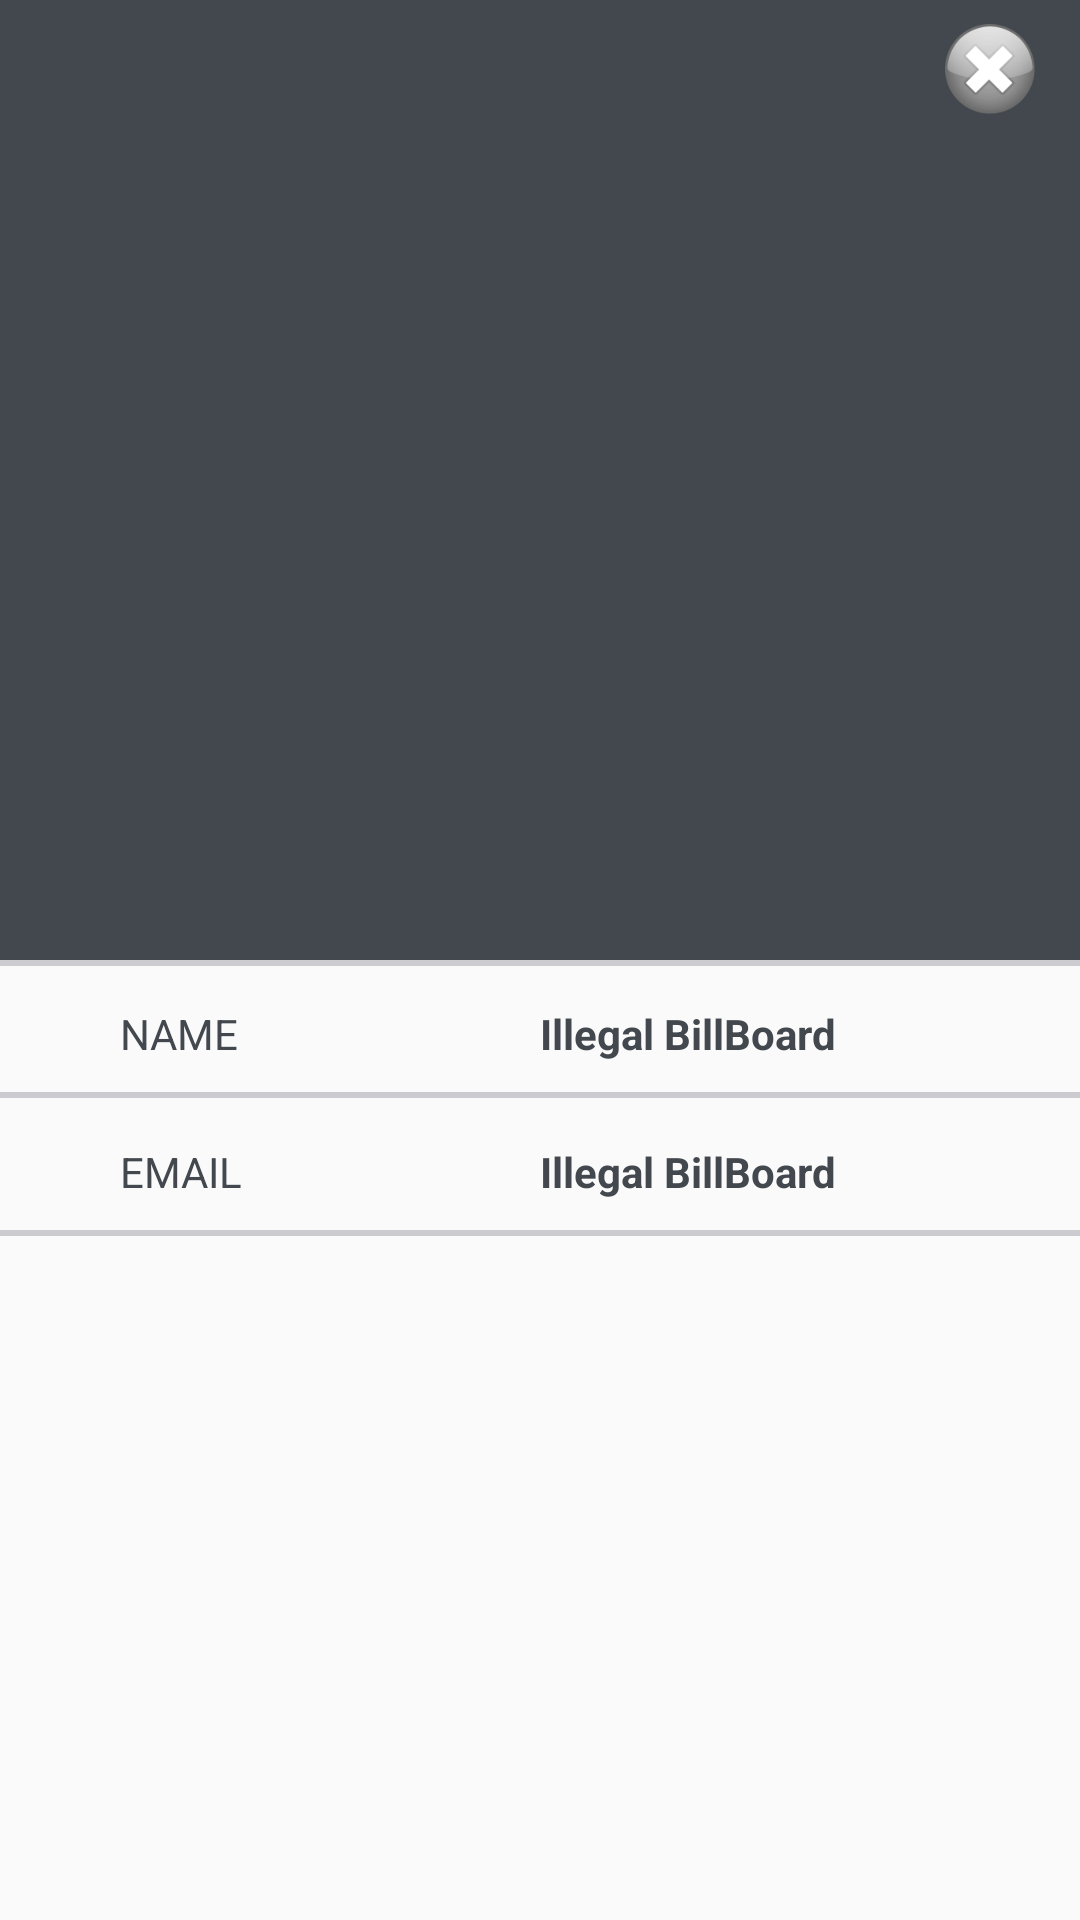

Named icons in this screenshot (1080*1920) and their centers, point (x, y):
iconclosex: point (989, 68)
